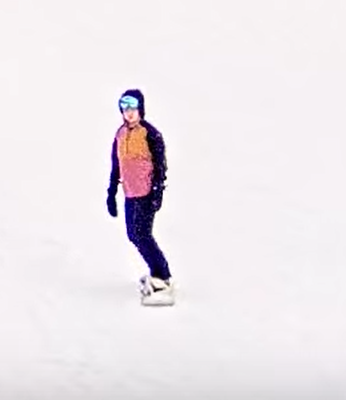snowboarder: (95, 87, 178, 306)
